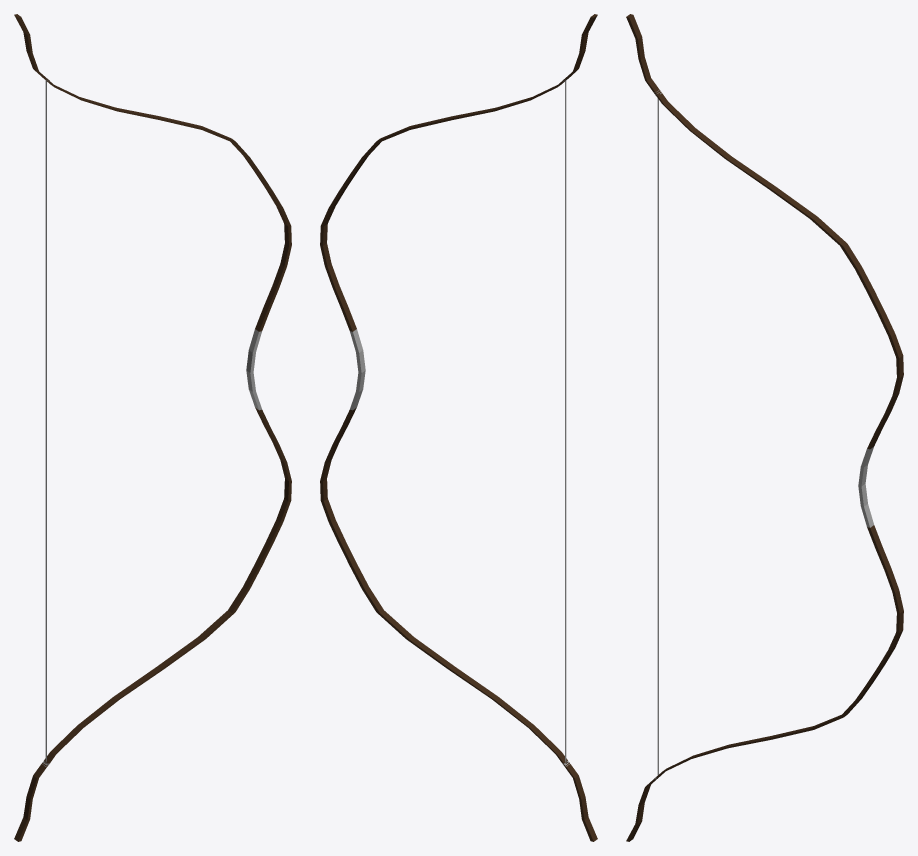
File: composite bow.fbx
3 views of the same model, side by side, from view 1: azimuth 30°, elevation 25°; view 2: azimuth 150°, elevation 25°; view 3: azimuth 330°, elevation 25° (orthographic).
Visible parts, largest first — view 1: bow, bowstring; view 2: bow, bowstring; view 3: bow, bowstring.
Part boxes in pixels (<box>): bow: <box>14,14,291,841</box>; bowstring: <box>45,80,46,761</box>; bow: <box>320,14,597,841</box>; bowstring: <box>565,80,566,761</box>; bow: <box>626,14,903,841</box>; bowstring: <box>657,92,658,775</box>.
Size of the model in its own units: 847 by 2438 by 22.02.
